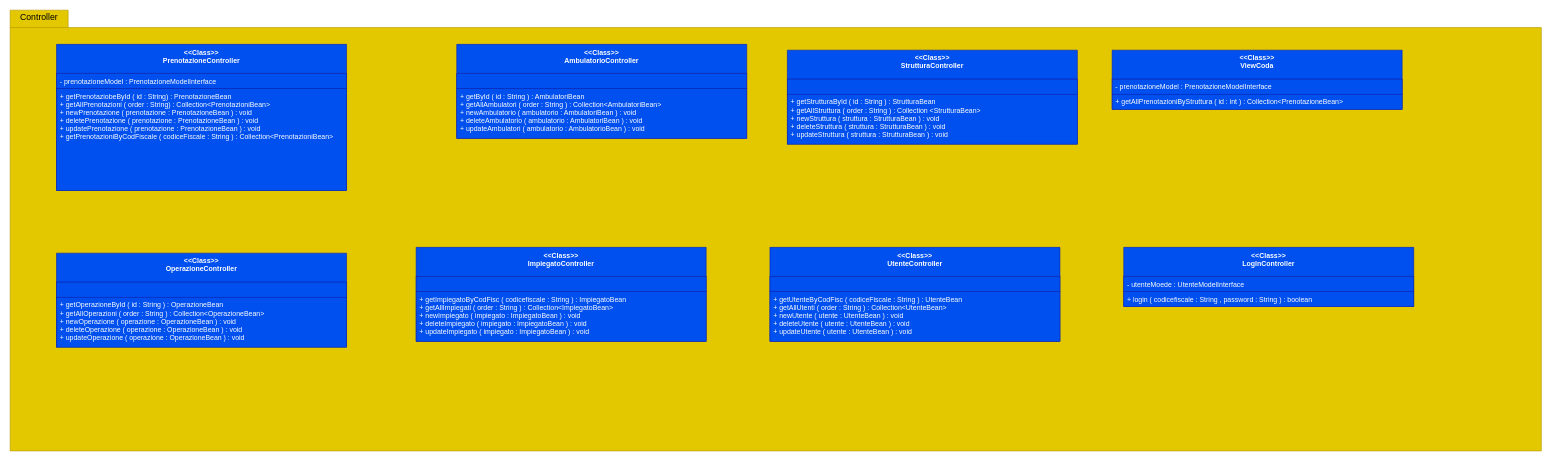
Image size: 1552x461. Some labels were removed from this diagram. The centre of each missing label's shape, as x and y in pixels:
- ambulatorioModel : ambulatorioModelInterface: (601,80)
- impiegatoModel : ImpiegatoModelInterface: (561,283)
- operazioneModel : operazioneModelInterface: (201,289)
- strutturaModel : StrutturaModelInterface: (932,86)
- utenteModel : UtenteModelInterface: (914,283)
